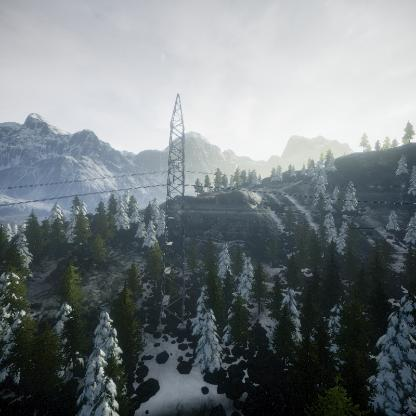tower: (150, 88, 189, 336)
